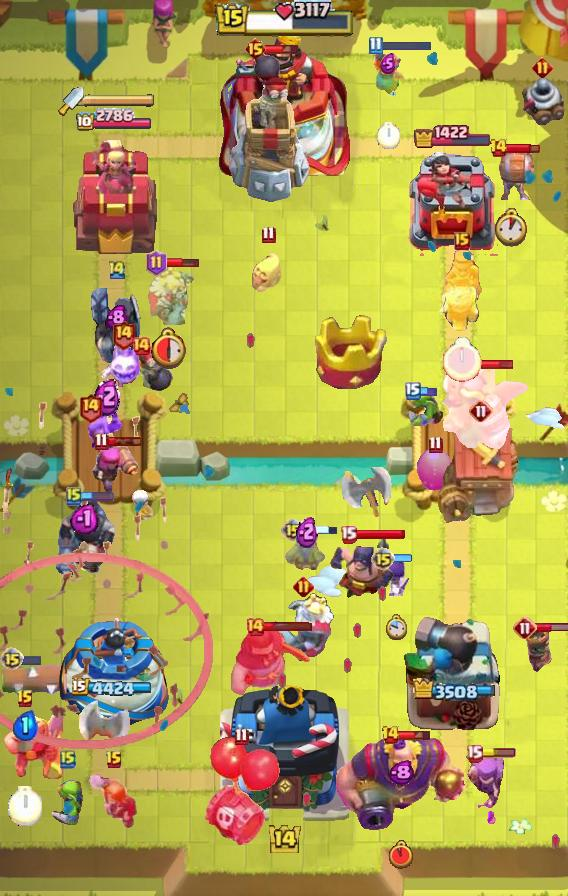axe: (77, 681, 131, 749), (341, 467, 393, 519)
bar: (380, 39, 432, 52), (354, 528, 406, 540), (263, 621, 313, 632), (7, 653, 42, 666), (79, 490, 115, 502), (397, 729, 432, 741), (505, 142, 540, 154), (265, 43, 300, 55), (164, 257, 200, 268), (303, 524, 338, 535), (107, 436, 142, 447), (479, 359, 514, 370), (535, 622, 568, 633), (480, 748, 516, 758), (393, 553, 412, 564), (419, 386, 438, 397)
bar-level: (78, 392, 103, 423), (111, 319, 136, 350), (0, 647, 24, 671), (513, 616, 537, 640), (371, 547, 395, 571), (281, 518, 305, 542), (469, 399, 493, 423), (244, 37, 267, 61), (146, 250, 167, 276), (293, 576, 314, 597), (532, 57, 553, 78), (107, 259, 127, 280), (245, 617, 265, 637), (131, 336, 151, 356), (381, 725, 400, 745), (489, 138, 508, 158), (105, 750, 123, 770), (16, 689, 34, 709), (466, 744, 483, 763), (340, 525, 357, 544), (60, 749, 76, 769), (66, 486, 82, 506), (405, 382, 421, 400), (454, 232, 470, 250), (234, 727, 249, 746), (428, 435, 443, 454), (94, 432, 109, 451), (261, 225, 276, 244), (368, 36, 383, 55)
bomber: (136, 345, 176, 393)
cannoneer-tower: (402, 615, 504, 731)
clock: (443, 337, 482, 382), (151, 326, 190, 369), (493, 208, 530, 247), (8, 786, 42, 826), (389, 840, 413, 869), (377, 122, 400, 149), (385, 614, 407, 641)
dagger-duchess-tower: (70, 138, 158, 256)
dagger-duchess-tower-bar: (84, 93, 156, 107)
elixir: (93, 377, 120, 416), (70, 502, 98, 534), (12, 710, 38, 741), (296, 514, 318, 548), (388, 760, 414, 786), (106, 304, 128, 330), (380, 53, 396, 74)
executioner: (328, 531, 396, 601)
firecracker: (91, 438, 139, 500)
goblin: (47, 771, 89, 829), (285, 533, 329, 575), (405, 388, 445, 426)
heal-spirit: (251, 249, 285, 293)
ice-spirit-evolution: (99, 341, 147, 389)
king-tower: (218, 27, 350, 181), (220, 678, 349, 826)
king-tower-bar: (214, 0, 354, 39)
little-prince: (523, 624, 555, 674)
miner: (0, 709, 66, 779)
minion: (87, 408, 125, 450)
mother-witch: (463, 750, 507, 828)
phoenix-egg: (415, 448, 455, 492)
queen-tower: (55, 614, 174, 731), (408, 152, 498, 256)
ram-rider: (439, 248, 485, 332)
royal-ghost: (271, 591, 335, 663), (143, 263, 197, 325)
skeleton: (128, 489, 156, 523)
skeleton-evolution: (380, 559, 412, 599)
the-log: (0, 662, 102, 696)
tower-bar: (411, 678, 495, 702), (413, 124, 493, 149), (75, 108, 153, 133), (72, 678, 156, 699)
valkyrie: (87, 770, 141, 830), (369, 48, 407, 100)
wall-breaker: (487, 152, 535, 200)
zappy: (519, 71, 565, 125)
